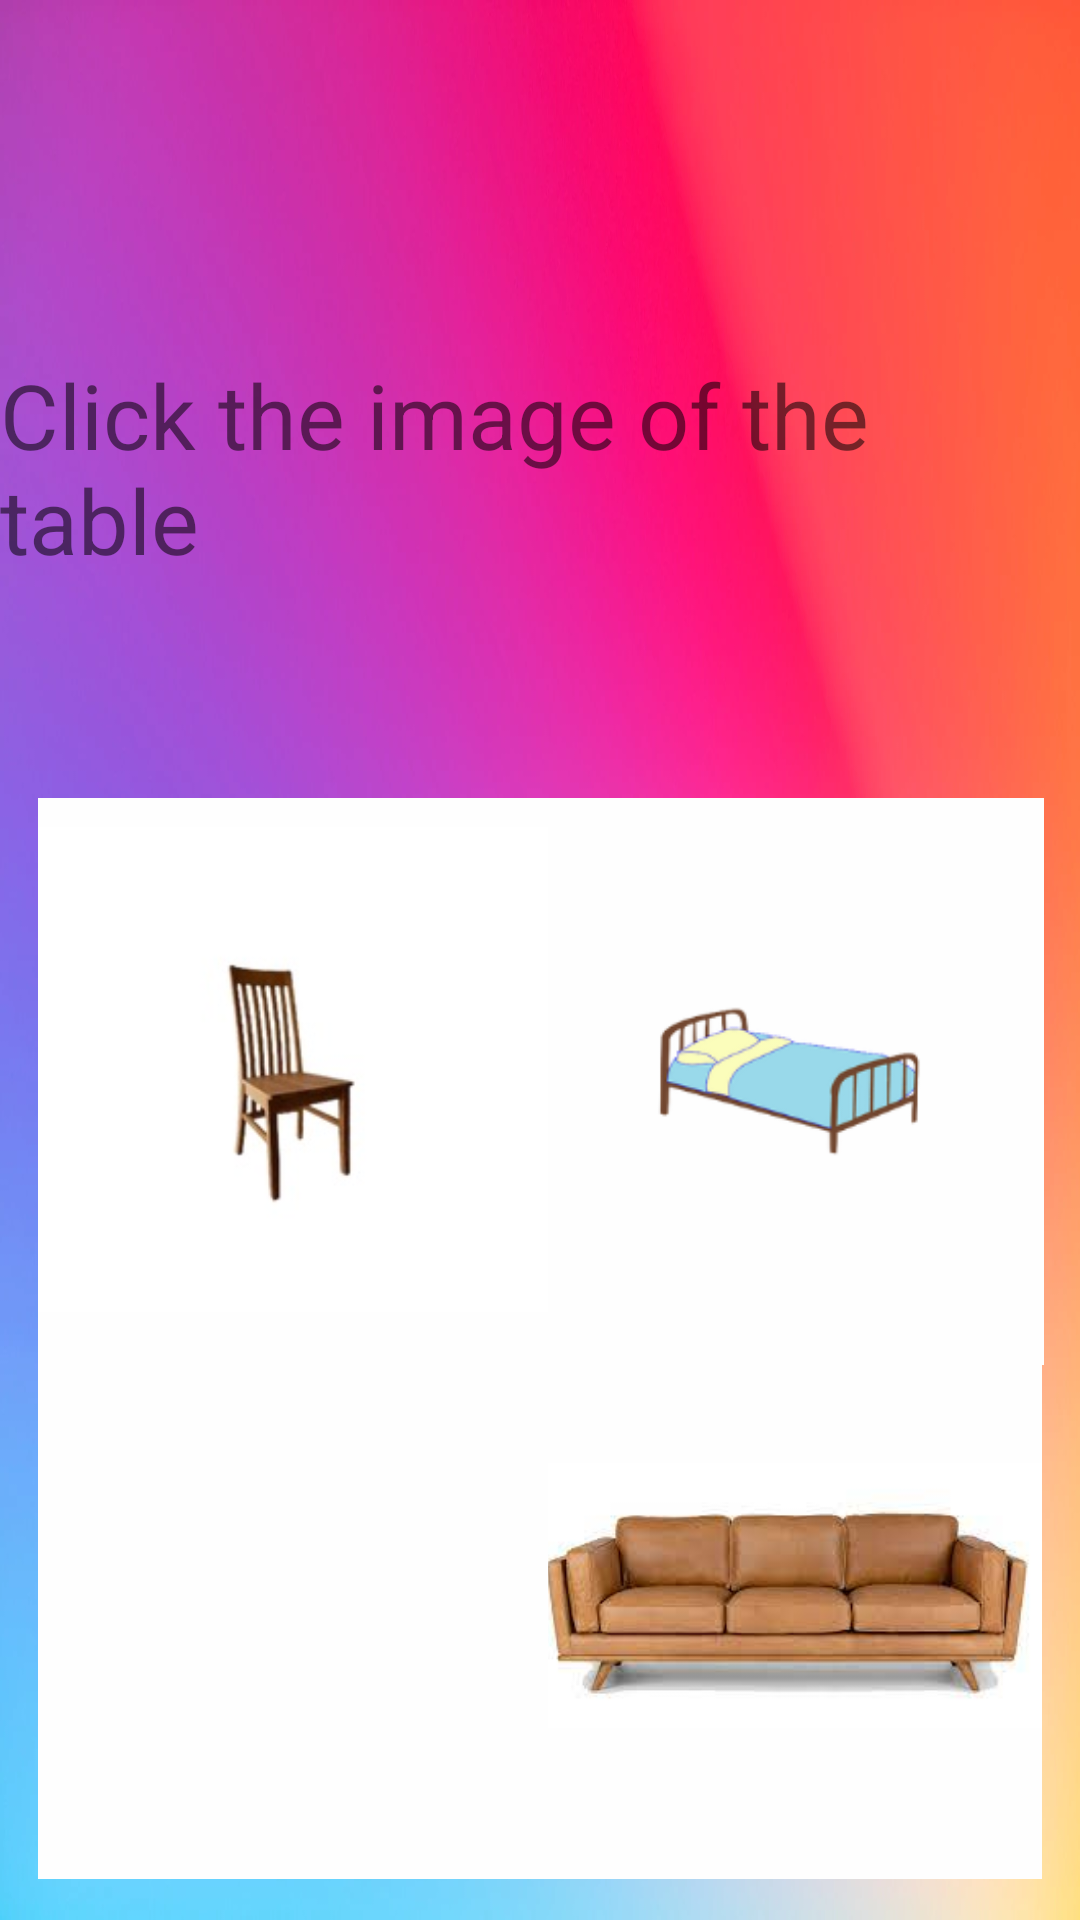

Point at icon controls on the screen. Image size 1080*1920, points as (x=x, y=y).
Bed Picture: (x=790, y=1081)
Chair Picture: (x=291, y=1083)
